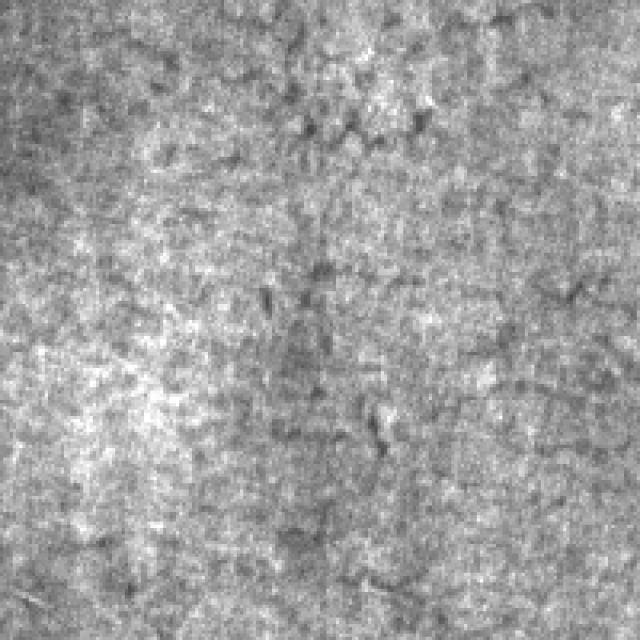crazing: (250, 259, 634, 554), (77, 0, 589, 157)
